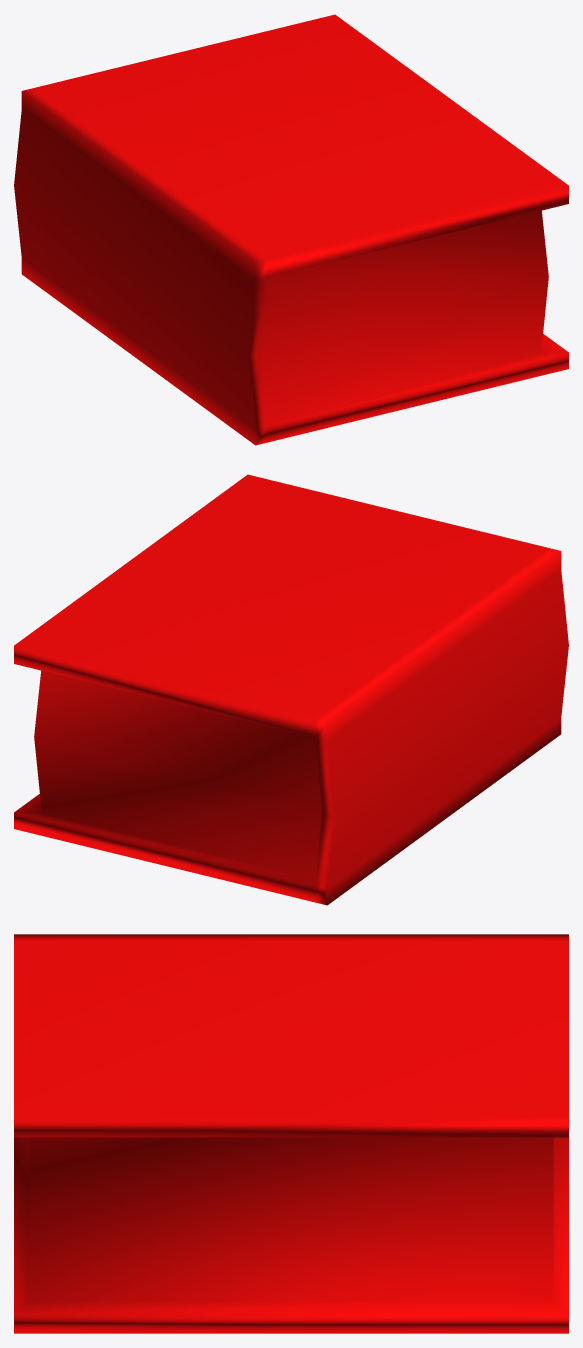
File: Book01.fbx
3 views of the same model, one above another, from view 1: azimuth 30°, elevation 25°; view 2: azimuth 150°, elevation 25°; view 3: azimuth 270°, elevation 25° (orthographic). The views are drawn at different scales.
Parts seen in each view (by area): view 1: Book01; view 2: Book01; view 3: Book01.
Part boxes in pixels (box(x1,y1,x2,y2)): Book01: box(14, 14, 568, 445); Book01: box(14, 474, 568, 905); Book01: box(14, 934, 568, 1333).
Size of the model in its own units: 1.79 by 0.9782 by 2.26.
